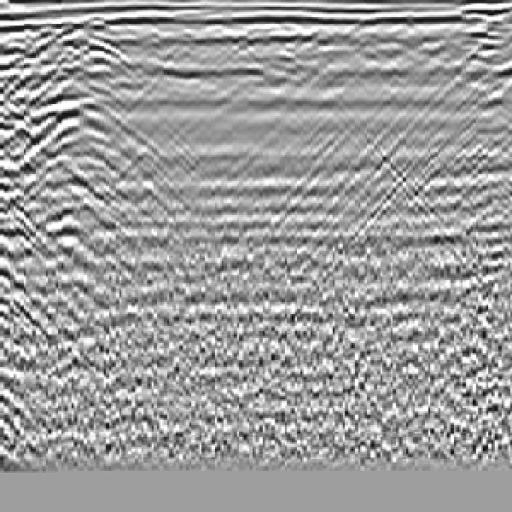metalic: (1, 12, 179, 323)
